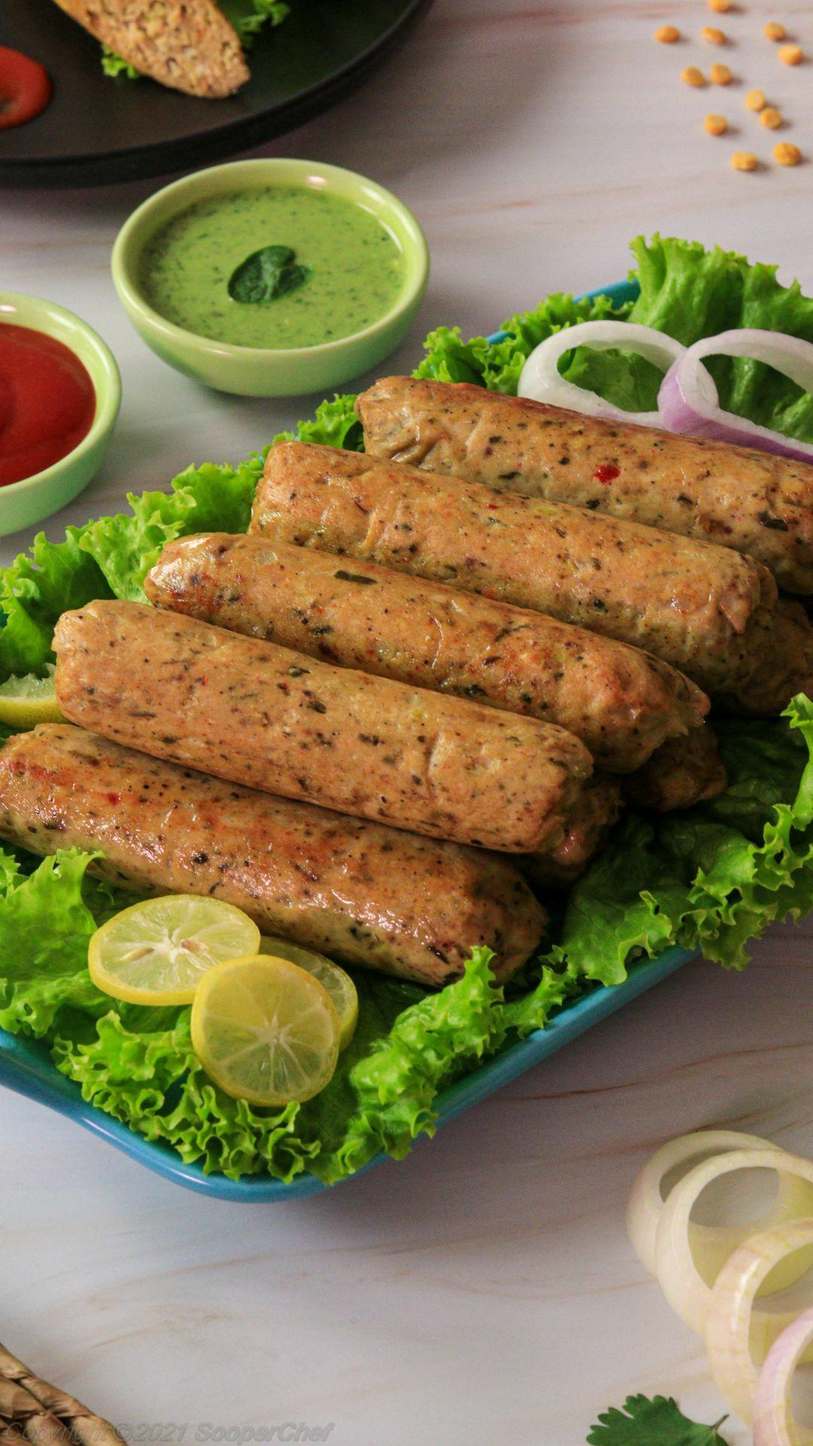GreenChutney: (139, 190, 402, 348)
Kebab: (5, 716, 550, 992), (47, 592, 586, 859), (137, 528, 710, 763), (250, 438, 752, 657), (363, 362, 813, 570), (51, 0, 251, 96)
